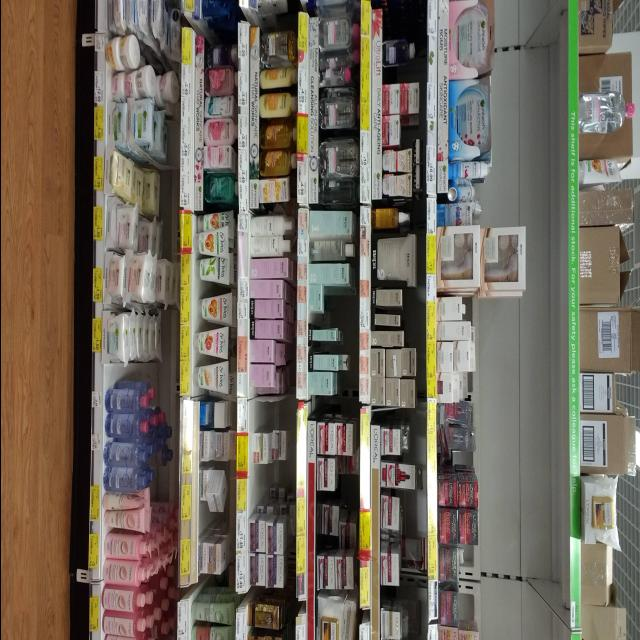empty_space: (250, 400, 286, 432), (250, 464, 282, 496), (102, 365, 148, 383)
